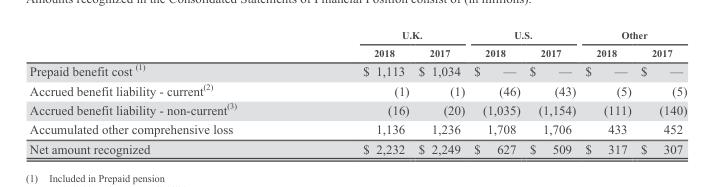table: (28, 29, 686, 155)
table column: (28, 29, 299, 155), (299, 29, 413, 155), (468, 29, 524, 155), (579, 29, 635, 155), (413, 29, 468, 155), (524, 29, 579, 155), (635, 29, 686, 155)
table column header: (28, 29, 686, 60)
table row: (28, 79, 686, 99), (28, 99, 686, 119), (28, 60, 686, 79), (28, 119, 686, 138), (28, 43, 686, 60), (28, 138, 686, 155), (28, 29, 686, 43)
table spanning cell: (299, 29, 468, 43), (468, 29, 579, 43), (579, 29, 686, 43)
